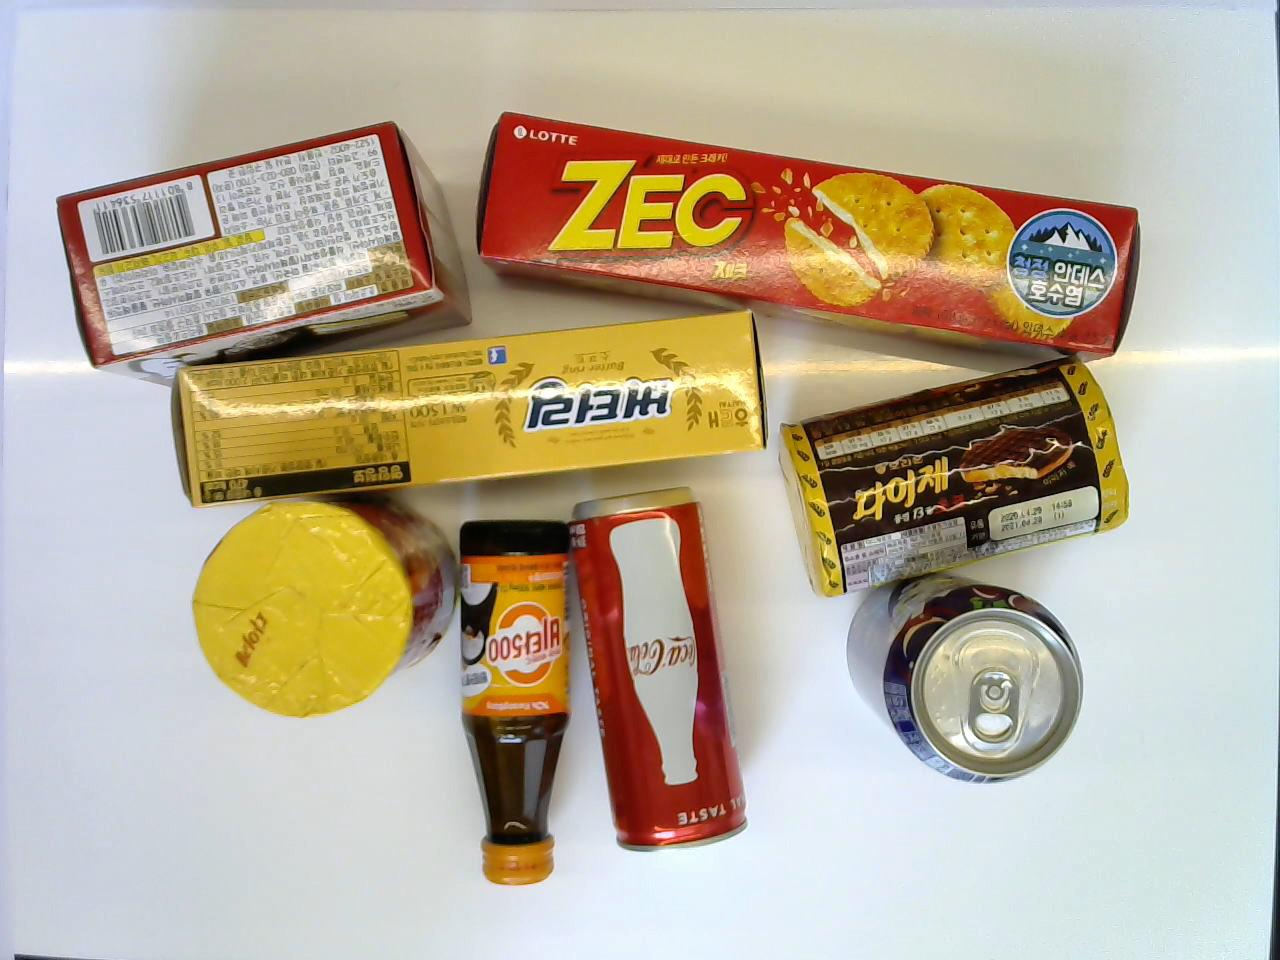buttering: (163, 309, 770, 504)
chocopie: (53, 119, 470, 392)
coke: (572, 485, 755, 861)
diget_choco: (777, 353, 1131, 603)
diget_ori: (189, 473, 455, 718)
vita500: (455, 515, 580, 889)
welchs: (841, 568, 1086, 791)
zec: (468, 106, 1145, 376)
